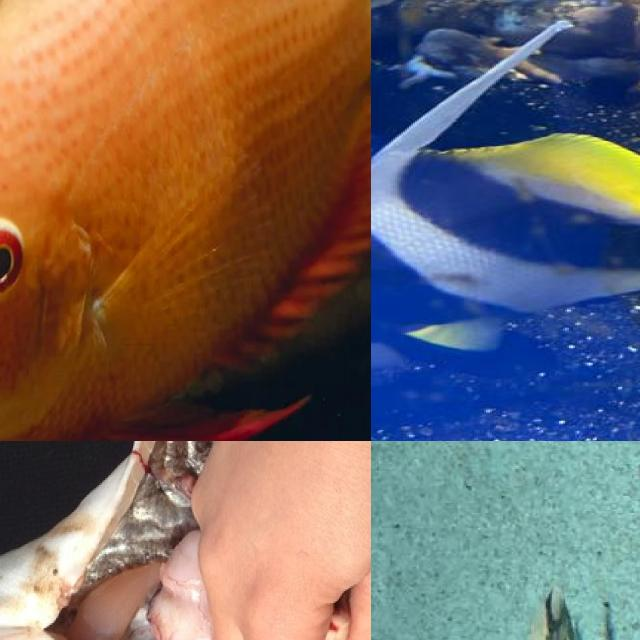fish: (0, 0, 371, 441), (371, 16, 640, 387), (0, 441, 371, 640), (518, 583, 595, 640)
